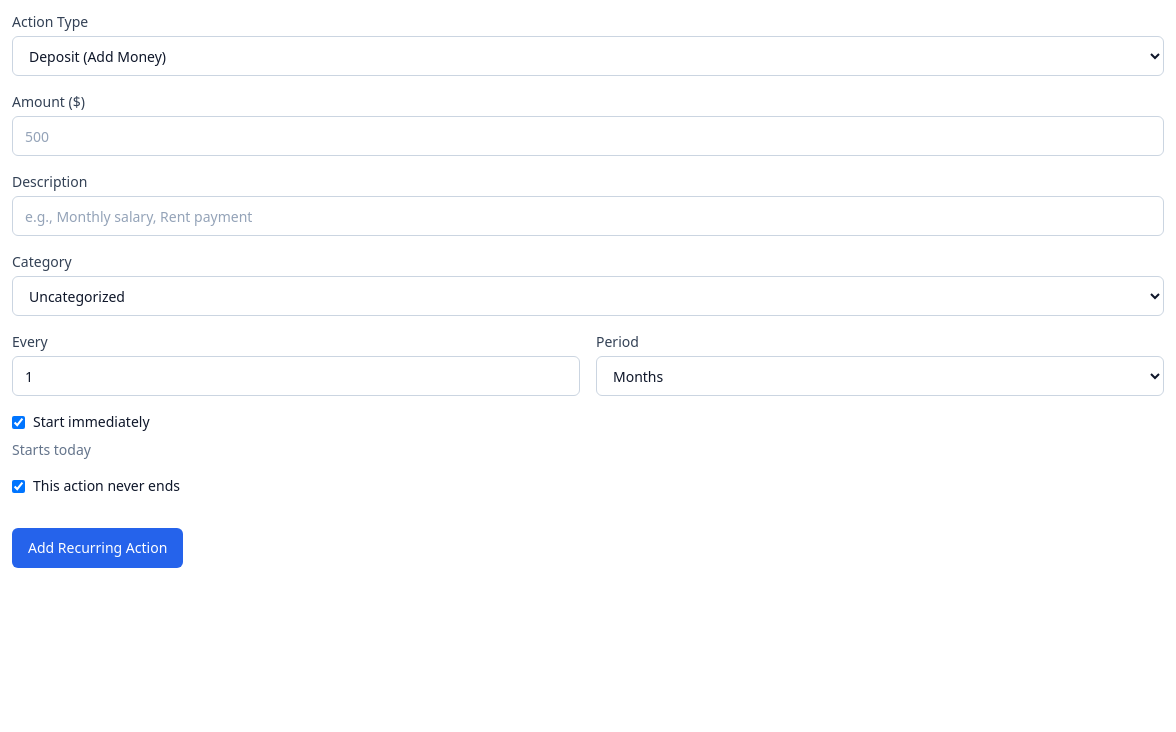
Test: RecurringActionForm (create mode) › reveals a start date picker when "Start immediately" is unchecked
This screenshot has width=1176, height=732.
What coordinates should you click on to do the following:
click the checkbox labelled "Start immediately"
I would click on:
 (18, 422)
Its box is [12,416,25,428].
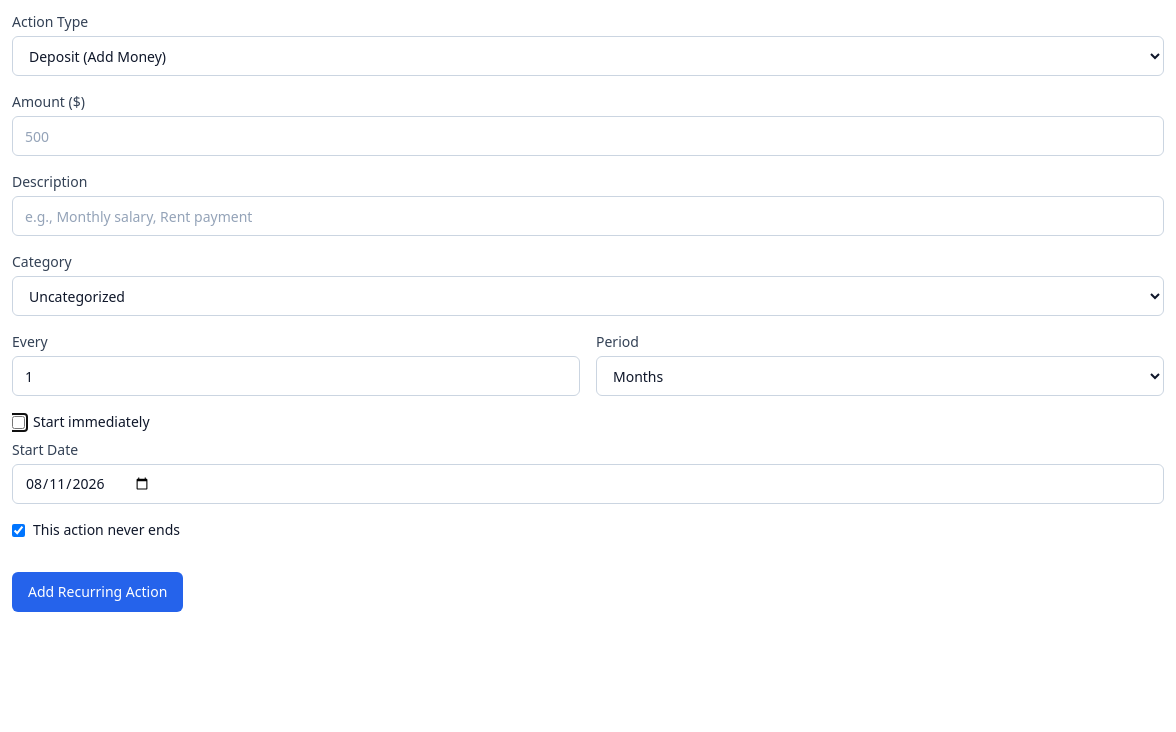
Expected: the date field labelled "Start Date" is shown, [12,464,1164,504]
Expected: the text "Starts today" is gone
